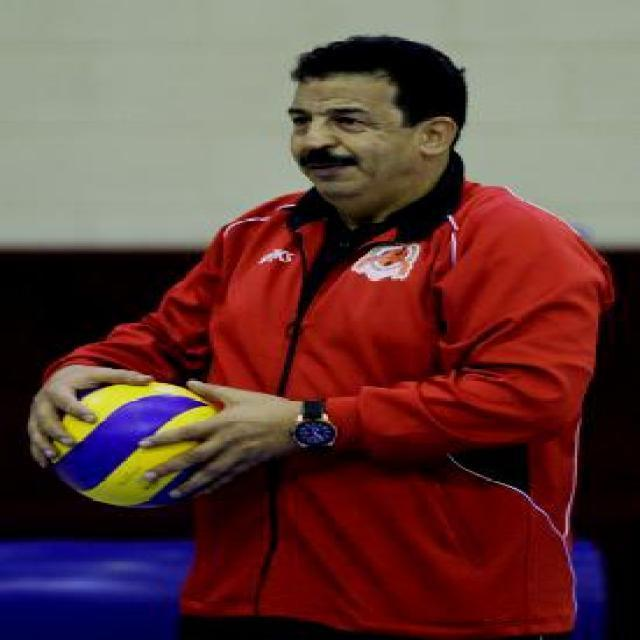volleyball: (46, 382, 241, 508)
